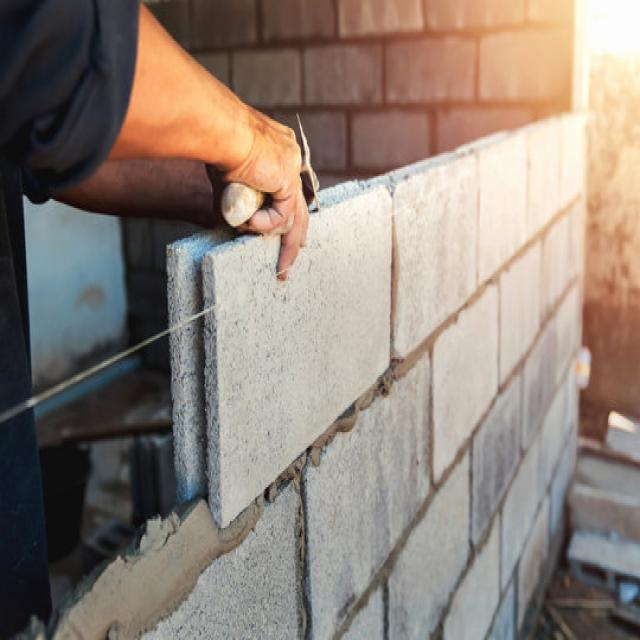Masonary: (127, 13, 602, 625)
